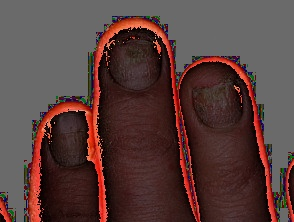Nail_psoriasis: (32, 96, 111, 188), (177, 66, 262, 148), (98, 26, 173, 102)
